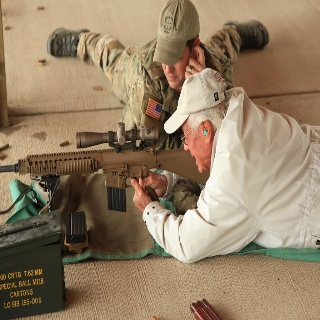rifle: (1, 121, 214, 213)
